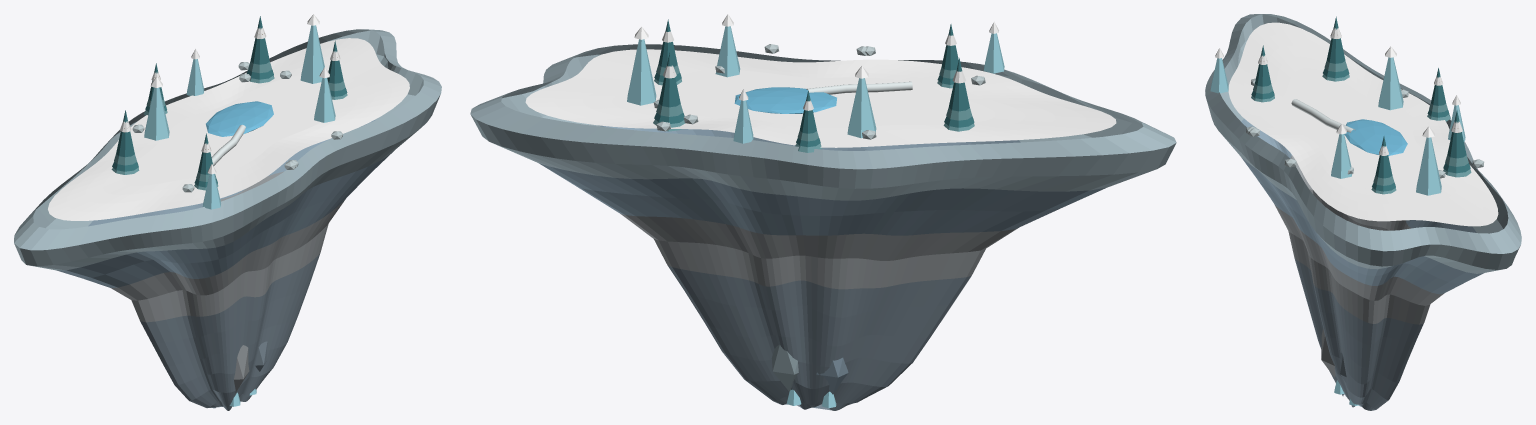
The model's file is FI-032-Blueglass-Fjord.glb.
The picture shows the model from 3 angles, left to right: view 1: azimuth 30°, elevation 25°; view 2: azimuth 150°, elevation 25°; view 3: azimuth 270°, elevation 25°; orthographic projection. The views are drawn at different scales.
Visible parts, largest first — view 1: FI-032_StratifiedFloatingCliff, FI-032_BuildableTop, FrozenTarn, BlueIceSpire_02, BlueIceSpire_00, BlueIceSpire_01, FI-032_GlacialRib_02, BlueIceSpire_03, BlueIceSpire_04, Frostfir_02_Bough_03, Frostfir_00_Bough_03, SnowSaddleTrail; view 2: FI-032_StratifiedFloatingCliff, FI-032_BuildableTop, FrozenTarn, BlueIceSpire_02, BlueIceSpire_00, SnowSaddleTrail, FI-032_GlacialRib_00, BlueIceSpire_01; view 3: FI-032_StratifiedFloatingCliff, FI-032_BuildableTop, FrozenTarn, BlueIceSpire_02, BlueIceSpire_00, BlueIceSpire_01, SnowSaddleTrail, BlueIceSpire_03, Frostfir_02_Bough_03, Frostfir_00_Bough_03, Frostfir_03_Bough_03, FI-032_GlacialRib_02 (+1 smaller).
Boxes of the visible parts, x1,y1,x2,y2 form: FI-032_StratifiedFloatingCliff: (14,29,441,410); FI-032_BuildableTop: (48,38,409,220); FrozenTarn: (206,101,273,136); BlueIceSpire_02: (300,25,324,83); BlueIceSpire_00: (144,87,169,140); BlueIceSpire_01: (314,78,335,122); FI-032_GlacialRib_02: (234,345,249,392); BlueIceSpire_03: (202,174,220,209); BlueIceSpire_04: (186,59,204,95); Frostfir_02_Bough_03: (250,16,269,64); Frostfir_00_Bough_03: (116,110,134,157); SnowSaddleTrail: (211,124,245,166); FI-032_StratifiedFloatingCliff: (470,44,1176,410); FI-032_BuildableTop: (525,49,1116,147); FrozenTarn: (734,87,836,113); BlueIceSpire_02: (627,39,656,105); BlueIceSpire_00: (847,78,876,138); SnowSaddleTrail: (806,81,912,94); FI-032_GlacialRib_00: (771,344,798,391); BlueIceSpire_01: (715,26,740,77); FI-032_StratifiedFloatingCliff: (1205,14,1521,410); FI-032_BuildableTop: (1228,22,1498,226); FrozenTarn: (1344,119,1407,155); BlueIceSpire_02: (1416,137,1441,195); BlueIceSpire_00: (1378,57,1403,110); BlueIceSpire_01: (1331,134,1352,178); SnowSaddleTrail: (1291,99,1355,132); BlueIceSpire_03: (1210,58,1228,93); Frostfir_02_Bough_03: (1447,110,1466,158); Frostfir_00_Bough_03: (1327,16,1345,63); Frostfir_03_Bough_03: (1375,136,1392,178); FI-032_GlacialRib_02: (1321,329,1335,377).
Size of the model in its own units: 18.81 by 12.09 by 10.43.
